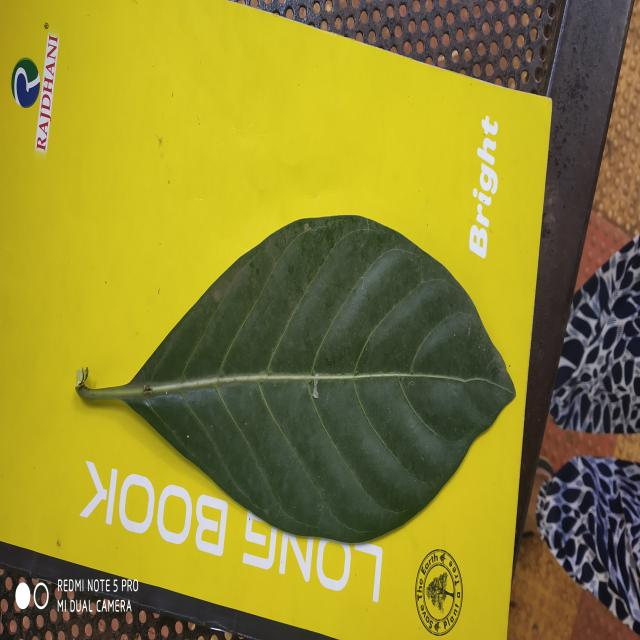nooni: (76, 216, 515, 542)
